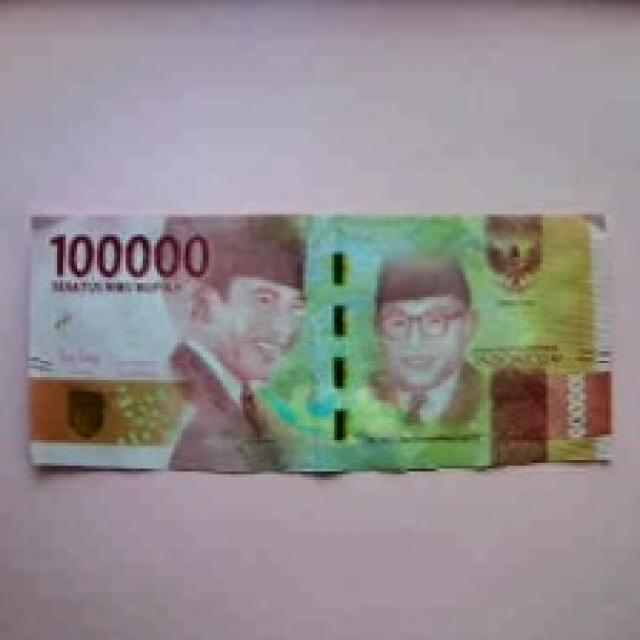lima puluh ribu rupiah: (35, 192, 640, 478)
